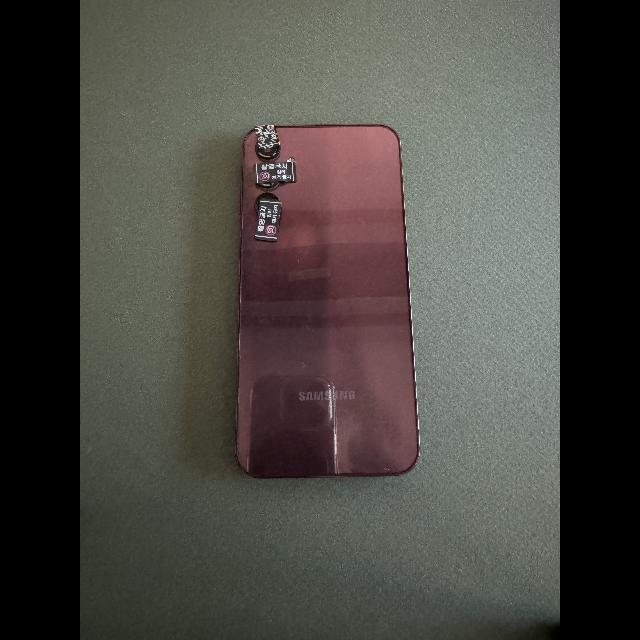lens: (255, 193, 279, 213), (256, 142, 281, 160), (258, 182, 279, 189)
phone: (236, 125, 419, 479)
sticker: (254, 198, 282, 242), (253, 162, 296, 184), (254, 125, 280, 149)
